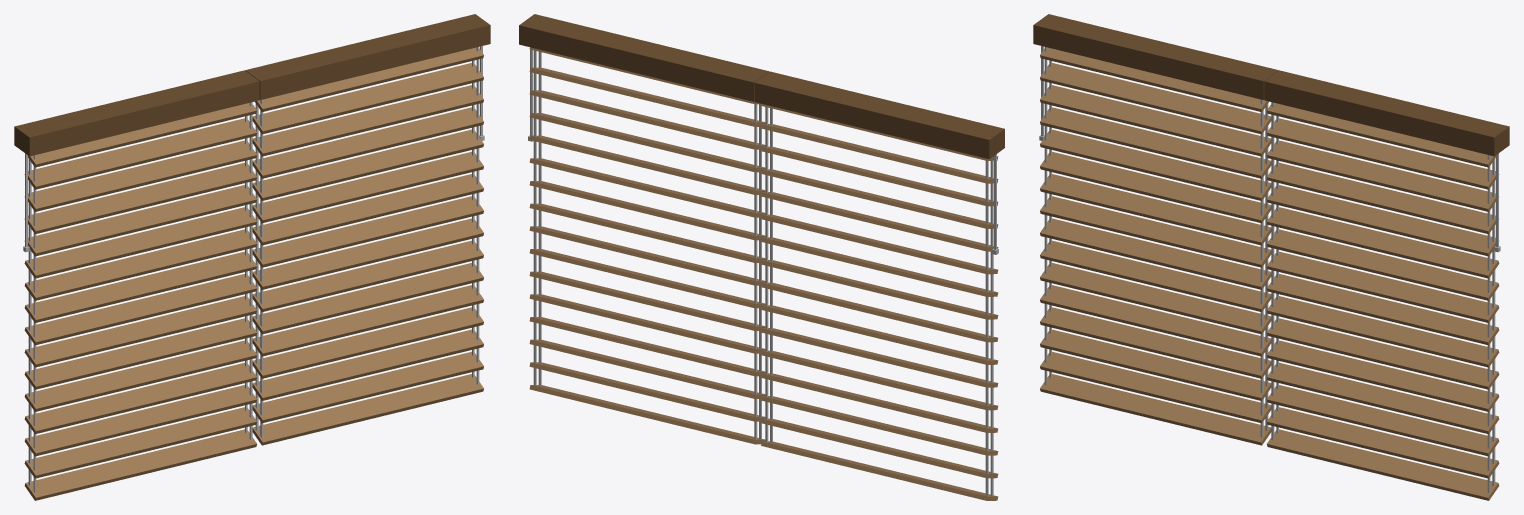
Rendered from Curtains12_C3.fbx.
3 renders of one model, left to right at view 1: azimuth 30°, elevation 25°; view 2: azimuth 150°, elevation 25°; view 3: azimuth 330°, elevation 25°, orthographic. The views are drawn at different scales.
Parts seen in each view (by area): view 1: Curtains12_C3; view 2: Curtains12_C3; view 3: Curtains12_C3.
Part boxes in pixels (left/top/right/bottom): Curtains12_C3: left=14, top=14, right=490, bottom=500; Curtains12_C3: left=519, top=14, right=1004, bottom=500; Curtains12_C3: left=1033, top=14, right=1509, bottom=500.
Bounding box in the file's own units: 223 × 169 × 12.67.
